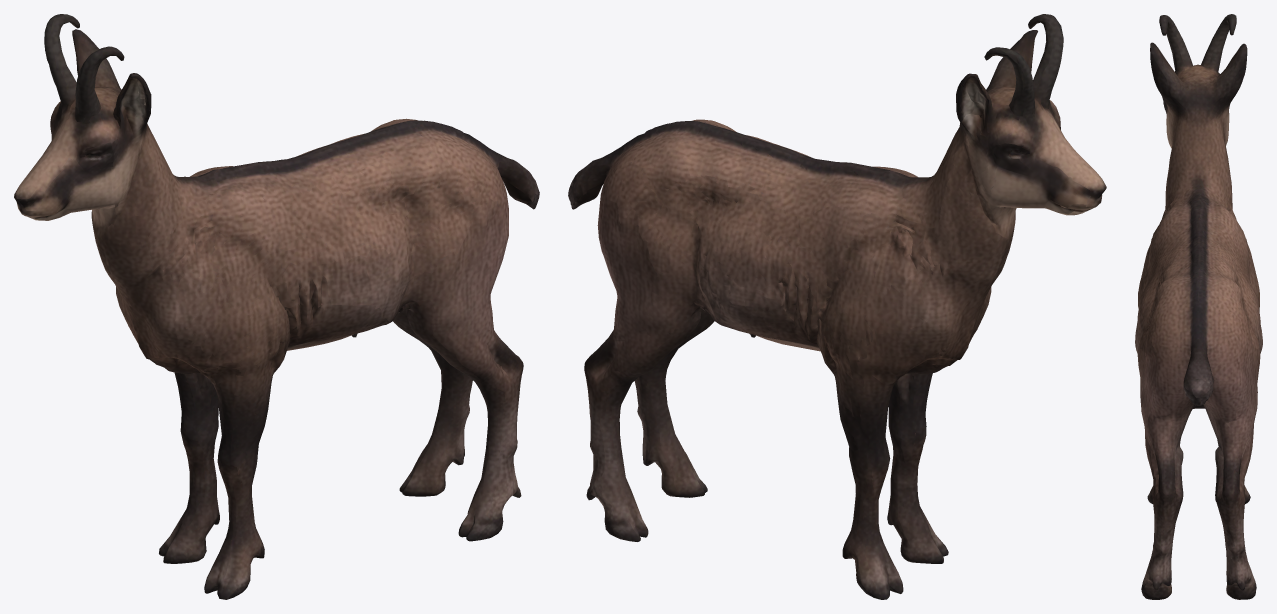
File: chamois-v20.glb
The picture shows the model from 3 angles, left to right: view 1: azimuth 30°, elevation 25°; view 2: azimuth 150°, elevation 25°; view 3: azimuth 270°, elevation 25°; orthographic projection. The views are drawn at different scales.
Visible parts, largest first — view 1: geometry_0; view 2: geometry_0; view 3: geometry_0.
Part boxes in pixels (x1,y1,x2,y2): geometry_0: (14,14,539,599); geometry_0: (568,14,1106,599); geometry_0: (1135,14,1262,599).
Bounding box in the file's own units: 1.3 × 1.35 × 0.3541.
1 material, 1 textured.
